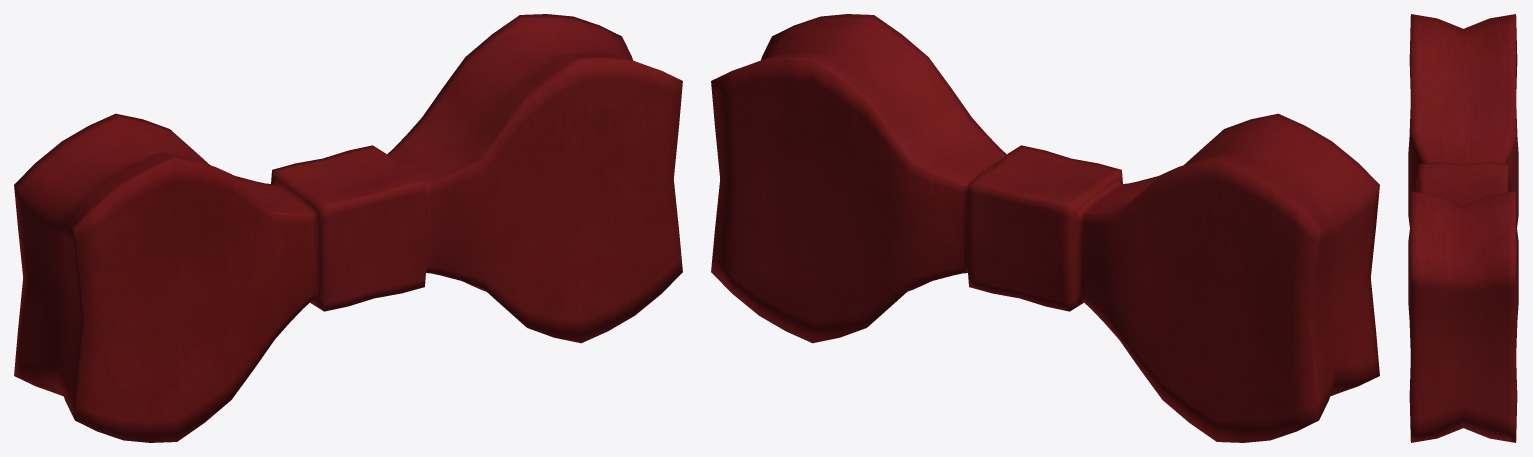
The model's file is rubysBow.obj.
The picture shows the model from 3 angles, left to right: view 1: azimuth 30°, elevation 25°; view 2: azimuth 150°, elevation 25°; view 3: azimuth 270°, elevation 25°; orthographic projection. The views are drawn at different scales.
Visible parts, largest first — view 1: Cube; view 2: Cube; view 3: Cube.
Part boxes in pixels (bbox=[...]): Cube: bbox=[14, 14, 682, 442]; Cube: bbox=[711, 14, 1379, 442]; Cube: bbox=[1408, 14, 1518, 442].
Size of the model in its own units: 2.05 by 0.912 by 0.3791.
